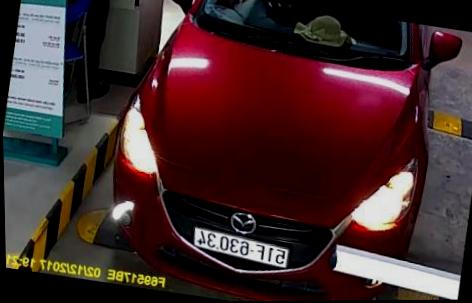License_Plate: (180, 226, 296, 274)
